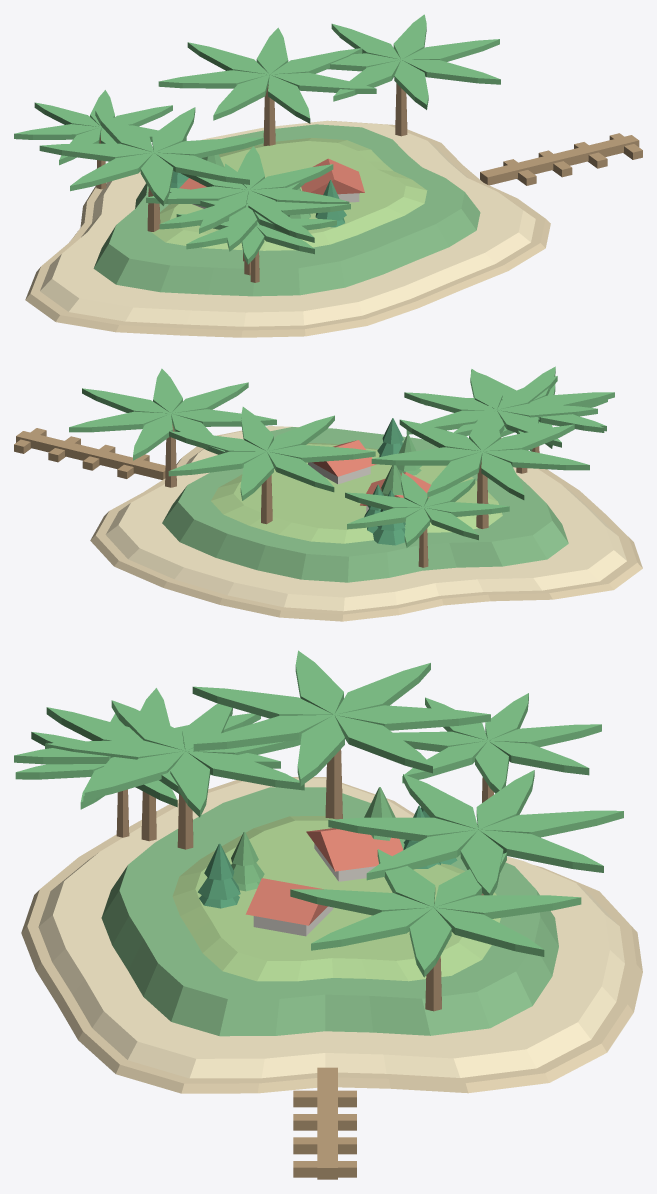
File: island_2.glb
The picture shows the model from 3 angles, top to bottom: view 1: azimuth 30°, elevation 25°; view 2: azimuth 150°, elevation 25°; view 3: azimuth 270°, elevation 25°; orthographic projection. The views are drawn at different scales.
Parts seen in each view (by area): view 1: Island2_Leaves, Island2_Sand, Island2_Grass, Island2_GrassHi, Island2_SandWet, Island2_Wood, Island2_Trunks, Island2_Roofs, Island2_Trees; view 2: Island2_Leaves, Island2_Sand, Island2_Grass, Island2_GrassHi, Island2_SandWet, Island2_Wood, Island2_Trunks, Island2_Trees, Island2_Roofs, Island2_Trees2, Island2_Walls; view 3: Island2_Leaves, Island2_Sand, Island2_Grass, Island2_GrassHi, Island2_SandWet, Island2_Wood, Island2_Roofs, Island2_Trunks, Island2_Trees, Island2_Trees2, Island2_Walls.
Boxes of the visible parts, left/top/right/bottom form: Island2_Leaves: left=14, top=14, right=500, bottom=264; Island2_Sand: left=40, top=120, right=535, bottom=326; Island2_Grass: left=93, top=124, right=480, bottom=296; Island2_GrassHi: left=151, top=138, right=427, bottom=250; Island2_SandWet: left=25, top=120, right=550, bottom=337; Island2_Wood: left=480, top=133, right=642, bottom=185; Island2_Trunks: left=96, top=83, right=407, bottom=282; Island2_Roofs: left=179, top=158, right=364, bottom=194; Island2_Trees: left=170, top=158, right=346, bottom=227; Island2_Leaves: left=69, top=366, right=614, bottom=547; Island2_Sand: left=105, top=426, right=626, bottom=611; Island2_Grass: left=162, top=427, right=568, bottom=582; Island2_GrassHi: left=211, top=443, right=502, bottom=543; Island2_SandWet: left=90, top=430, right=642, bottom=621; Island2_Wood: left=14, top=428, right=165, bottom=479; Island2_Trunks: left=165, top=424, right=539, bottom=567; Island2_Trees: left=364, top=418, right=405, bottom=545; Island2_Roofs: left=312, top=440, right=430, bottom=506; Island2_Trees2: left=381, top=434, right=421, bottom=495; Island2_Walls: left=308, top=462, right=370, bottom=512; Island2_Leaves: left=14, top=650, right=623, bottom=977; Island2_Sand: left=38, top=778, right=624, bottom=1078; Island2_Grass: left=101, top=787, right=558, bottom=1036; Island2_GrassHi: left=172, top=816, right=500, bottom=981; Island2_SandWet: left=21, top=777, right=642, bottom=1093; Island2_Wood: left=293, top=1067, right=356, bottom=1179; Island2_Roofs: left=245, top=828, right=403, bottom=925; Island2_Trunks: left=116, top=749, right=493, bottom=1011; Island2_Trees: left=198, top=805, right=457, bottom=908; Island2_Trees2: left=231, top=787, right=404, bottom=891; Island2_Walls: left=253, top=843, right=375, bottom=936.
Bounding box in the file's own units: 6.04 × 1.07 × 3.97.
